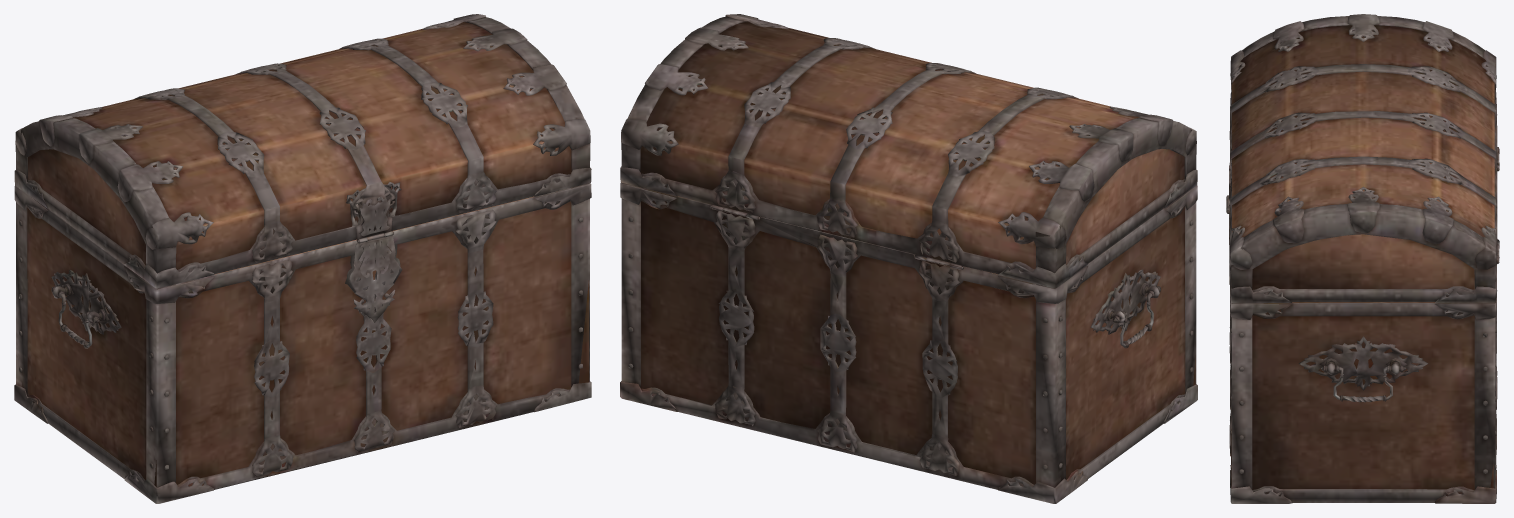
The model's file is treasure_chest.glb.
3 views of the same model, side by side, from view 1: azimuth 30°, elevation 25°; view 2: azimuth 150°, elevation 25°; view 3: azimuth 270°, elevation 25° (orthographic). The views are drawn at different scales.
Parts seen in each view (by area): view 1: treasure_chest_bottom; view 2: treasure_chest_bottom; view 3: treasure_chest_bottom.
Boxes of the visible parts, x1,y1,x2,y2 form: treasure_chest_bottom: (14,14,591,503); treasure_chest_bottom: (620,14,1197,503); treasure_chest_bottom: (1226,14,1499,503).
Size of the model in its own units: 0.959 by 0.6181 by 0.5223.
Materials: 1 (1 with a texture image).
